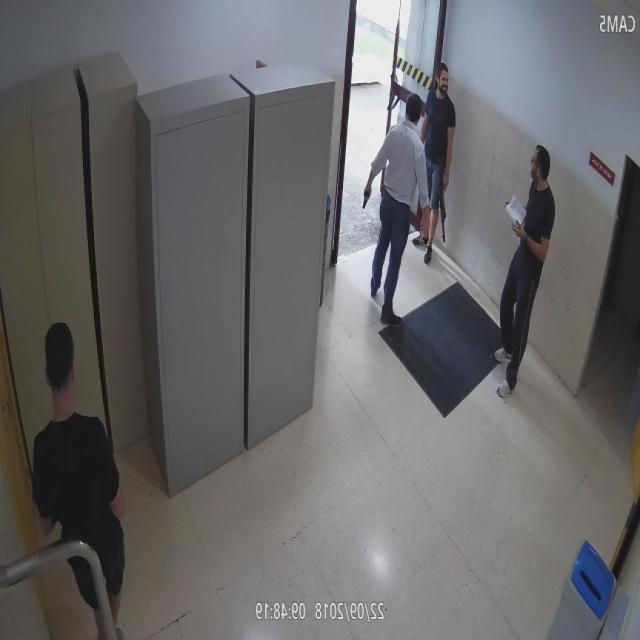pistol: (362, 183, 373, 211)
